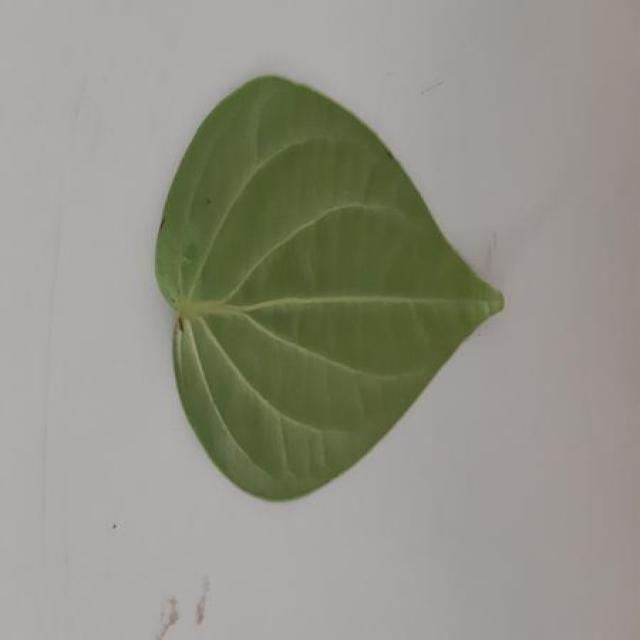betel: (155, 76, 503, 499)
